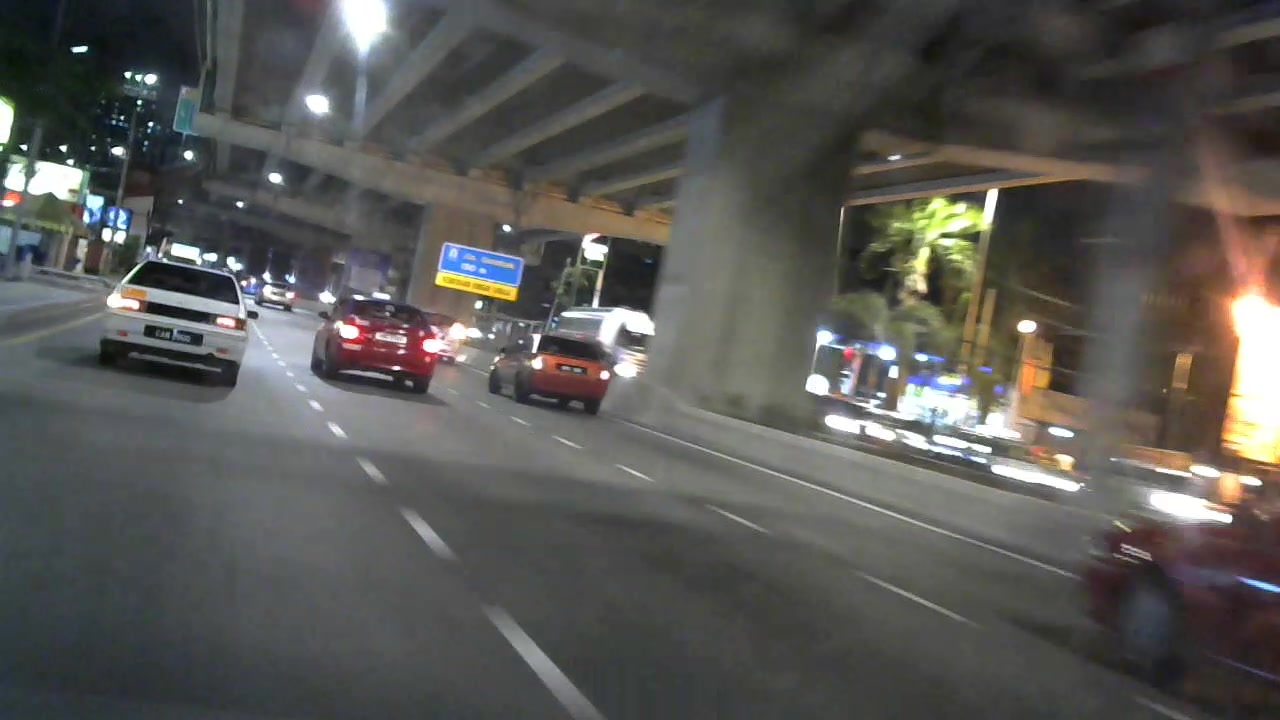Car: (1079, 479, 1280, 695), (93, 250, 245, 394), (308, 290, 437, 395), (493, 326, 613, 415), (255, 277, 297, 311)
